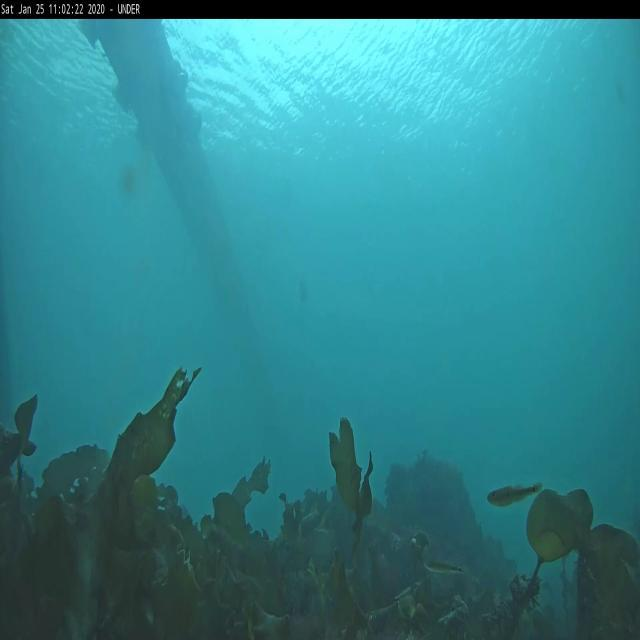fish: (487, 477, 544, 516), (424, 559, 466, 581), (296, 274, 310, 312)
